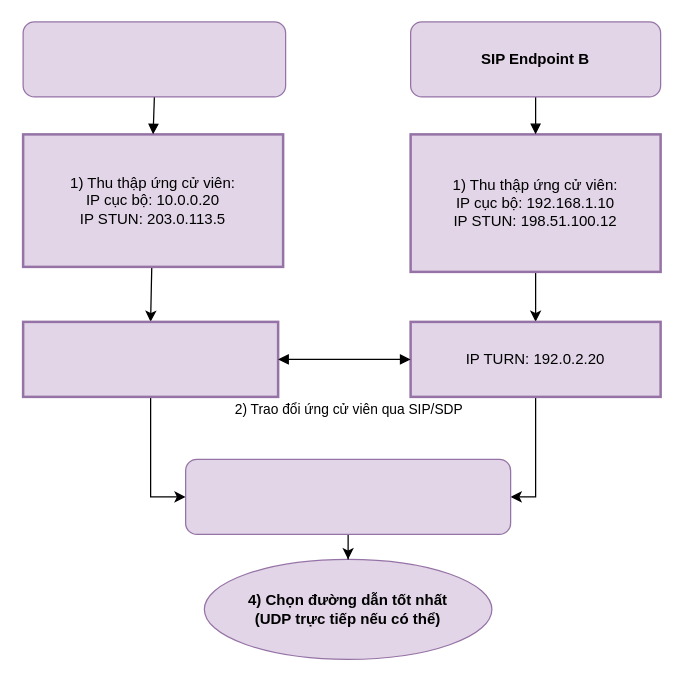
Some shapes in this 683 by 681 pixel diagram are drawn without their labels. The shapes that lost their labels are listed below. From the top down, each one's box as (x1, y1, x2, y2) in pixels, then its label:
(22, 21, 286, 97): SIP Endpoint A
(21, 320, 279, 398): IP TURN: 192.0.2.10
(184, 458, 511, 534): 3) Thực hiện kiểm tra kết nối (UDP trực tiếp, STUN, TURN)
